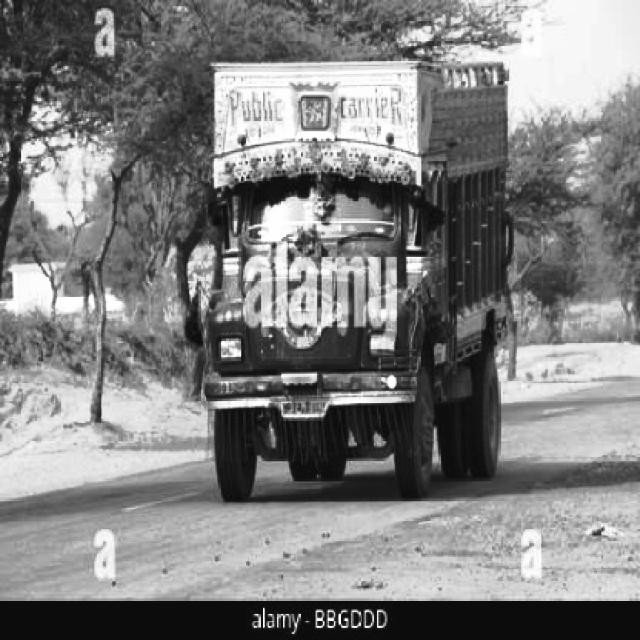HCV: (189, 68, 505, 525)
